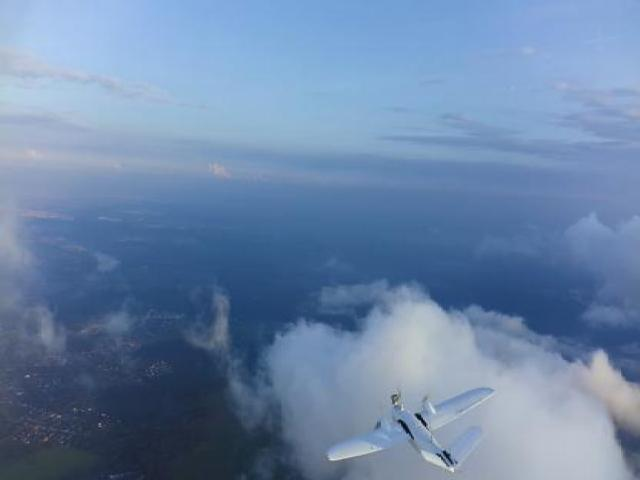uav: (327, 382, 496, 472)
